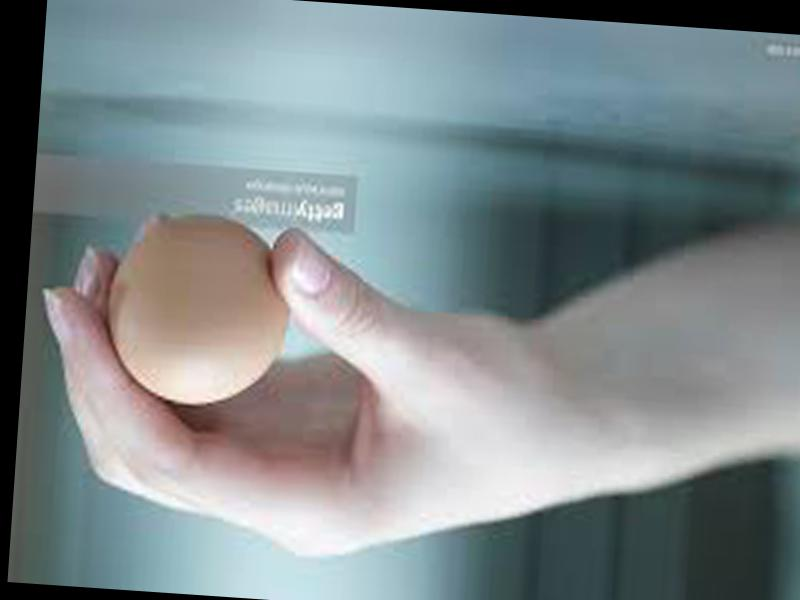Eggs: (102, 205, 299, 413)
